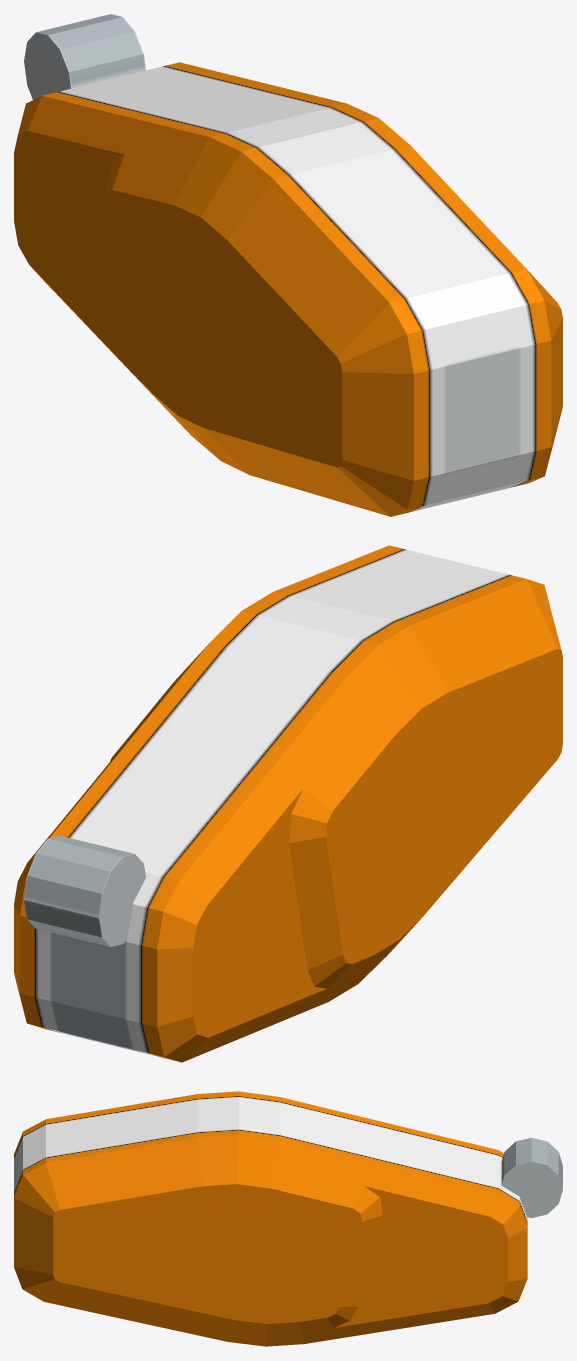
The model's file is JVRC-1-shape-8.dae.
3 renders of one model, top to bottom at view 1: azimuth 30°, elevation 25°; view 2: azimuth 150°, elevation 25°; view 3: azimuth 270°, elevation 25°, orthographic. The views are drawn at different scales.
Parts seen in each view (by area): view 1: root; view 2: root; view 3: root.
Boxes of the visible parts, x1,y1,x2,y2 form: root: (14, 14, 562, 516); root: (14, 545, 562, 1062); root: (14, 1091, 562, 1346).
Bounding box in the file's own units: 10.6 × 14.89 × 35.02.
Materials: 1 (1 with a texture image).
